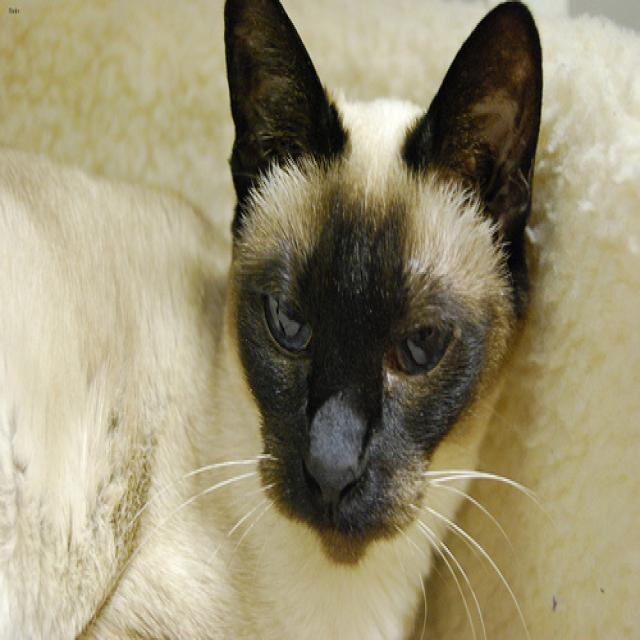Siamese: (220, 0, 543, 570)
